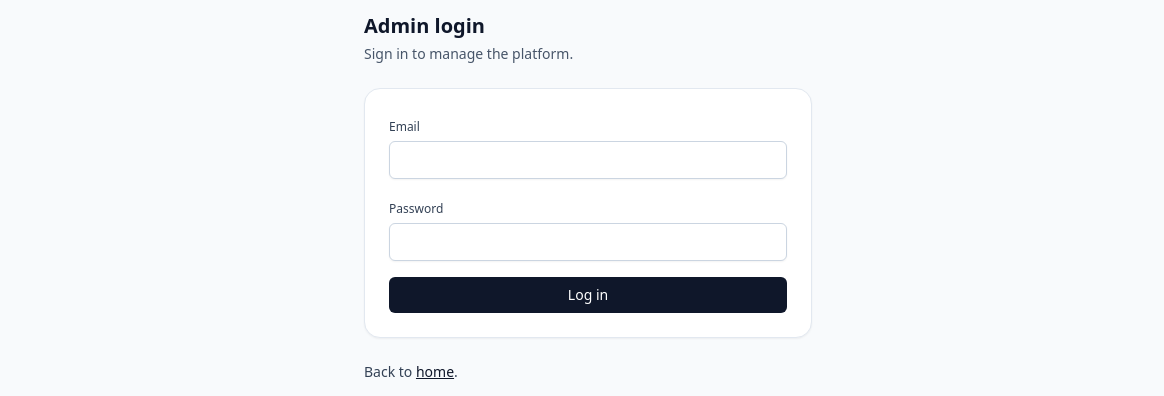
Test: AdminLoginPage › falls back to /admin/dashboard when returnUrl is not an admin path
The image size is (1164, 396).
Type "admin@example.com" into the field labelled "Email" at (588, 160), box [389,141,787,179]
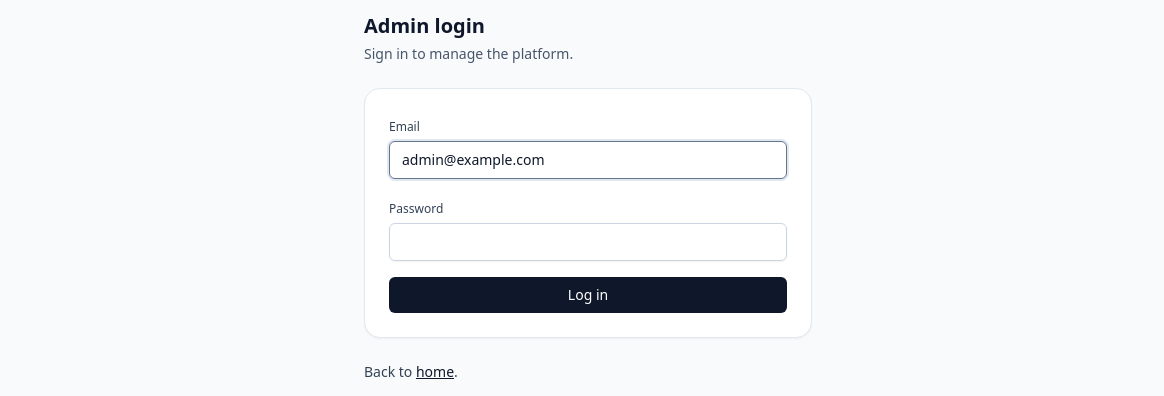
Type "secret" into the password field labelled "Password" at (588, 242), box [389,223,787,261]
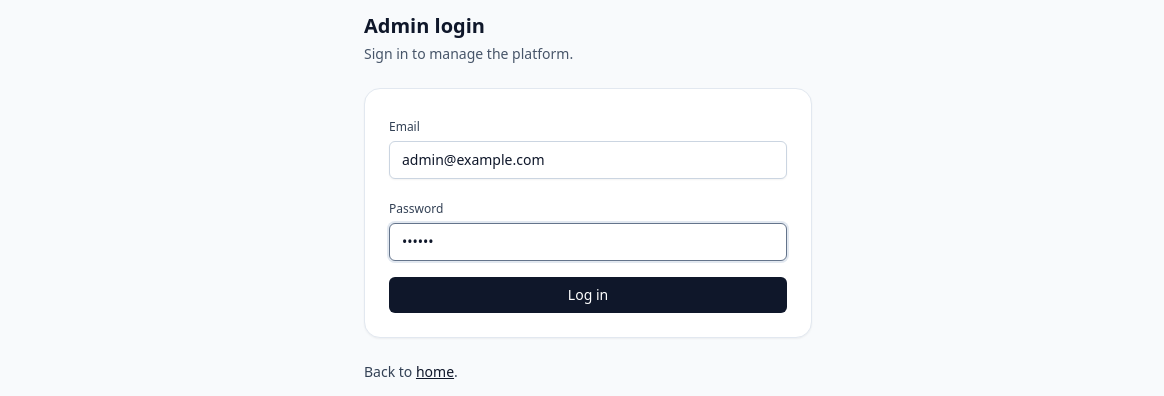
Click the button "Log in" at (588, 295), box [389,277,787,313]
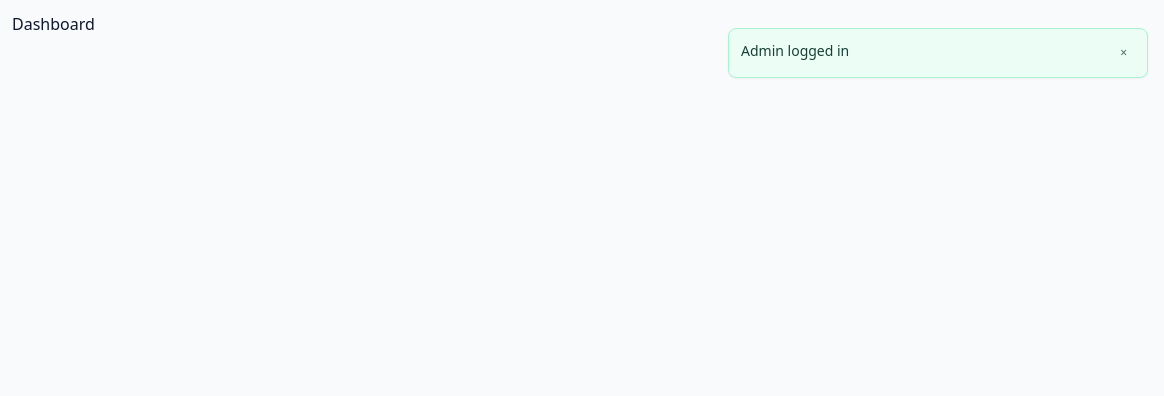
Now the text "Dashboard" is shown, box [12,13,95,35]
